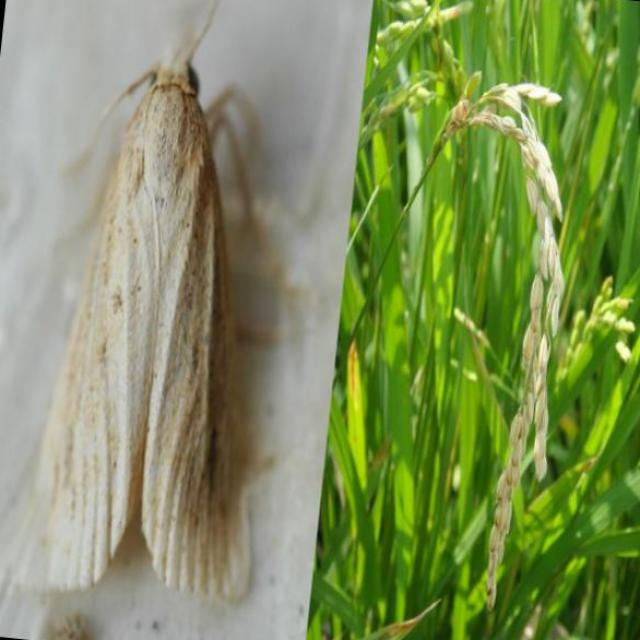stem borer: (39, 1, 250, 598)
